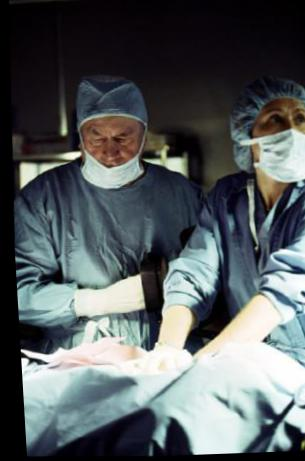OK: (253, 104, 305, 174)
WRONG: (79, 118, 142, 183)
